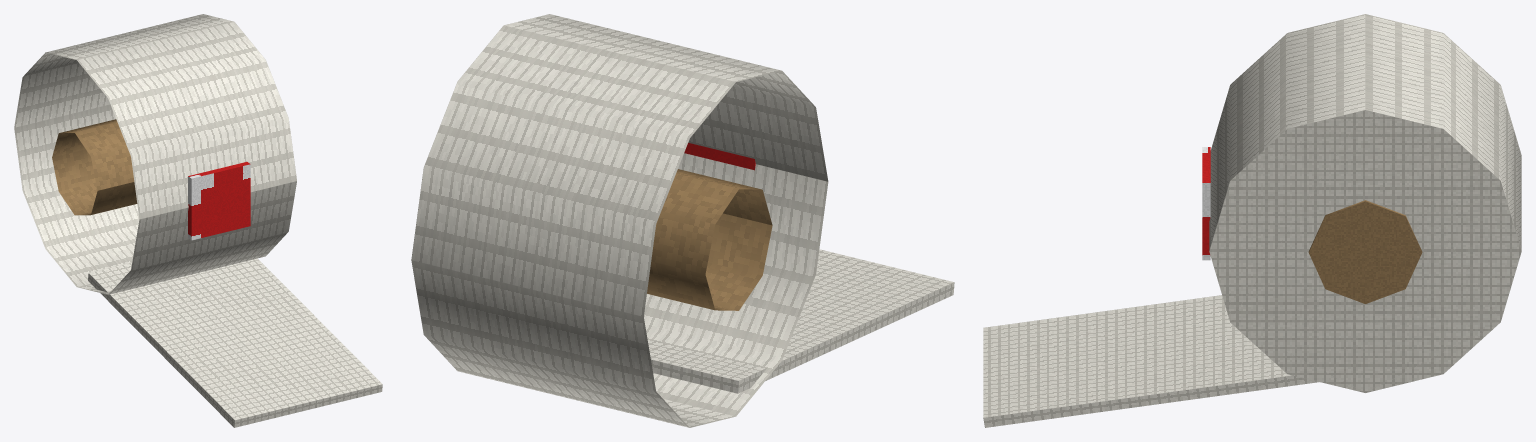
Rendered from item_bandage.glb.
The picture shows the model from 3 angles, left to right: view 1: azimuth 30°, elevation 25°; view 2: azimuth 150°, elevation 25°; view 3: azimuth 270°, elevation 25°; orthographic projection. The views are drawn at different scales.
Visible parts, largest first — view 1: item_bandage; view 2: item_bandage; view 3: item_bandage.
Part boxes in pixels (box(x1,y1,x2,y2)): item_bandage: box(14, 14, 382, 427); item_bandage: box(411, 14, 954, 427); item_bandage: box(983, 14, 1521, 427).
Bounding box in the file's own units: 0.082 × 0.1247 × 0.1896.
Materials: 3 (3 with a texture image).
